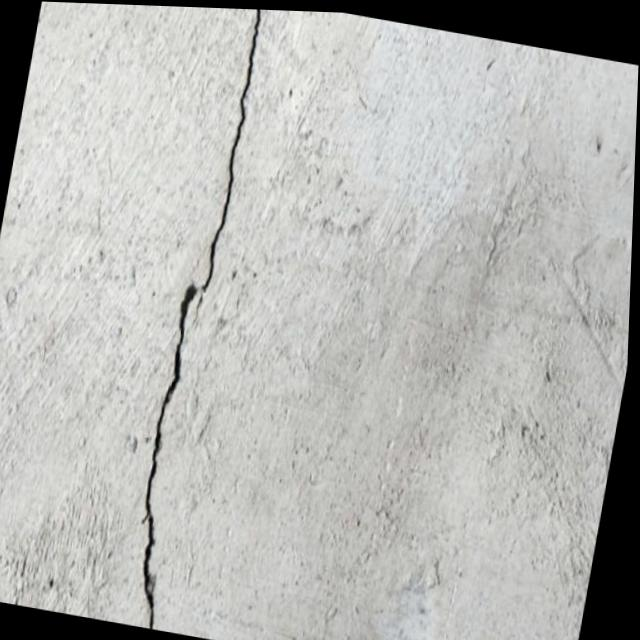Crack: (107, 4, 294, 636)
